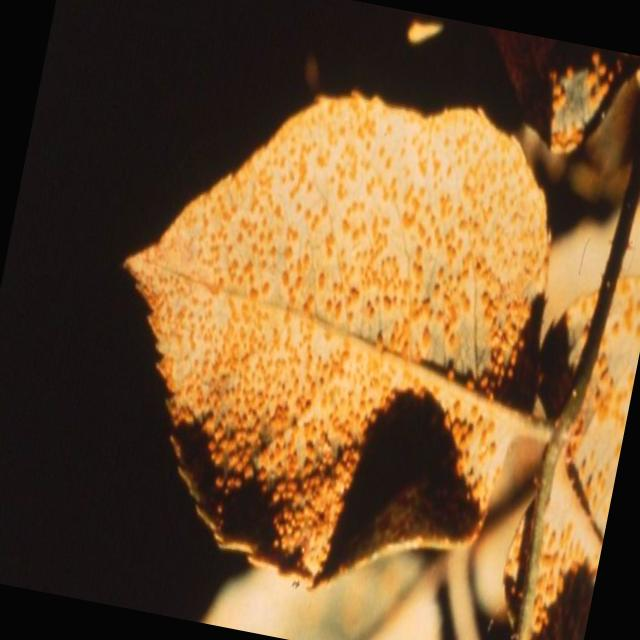leaf_rust: (128, 100, 549, 586)
